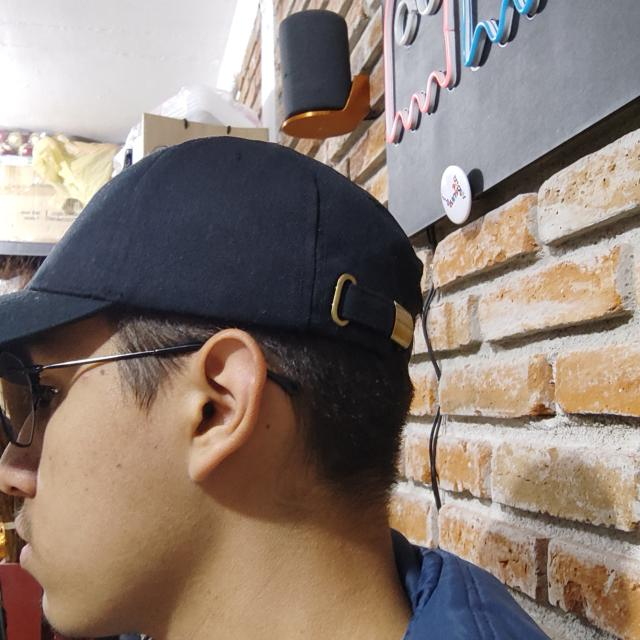ear: (179, 329, 266, 484)
